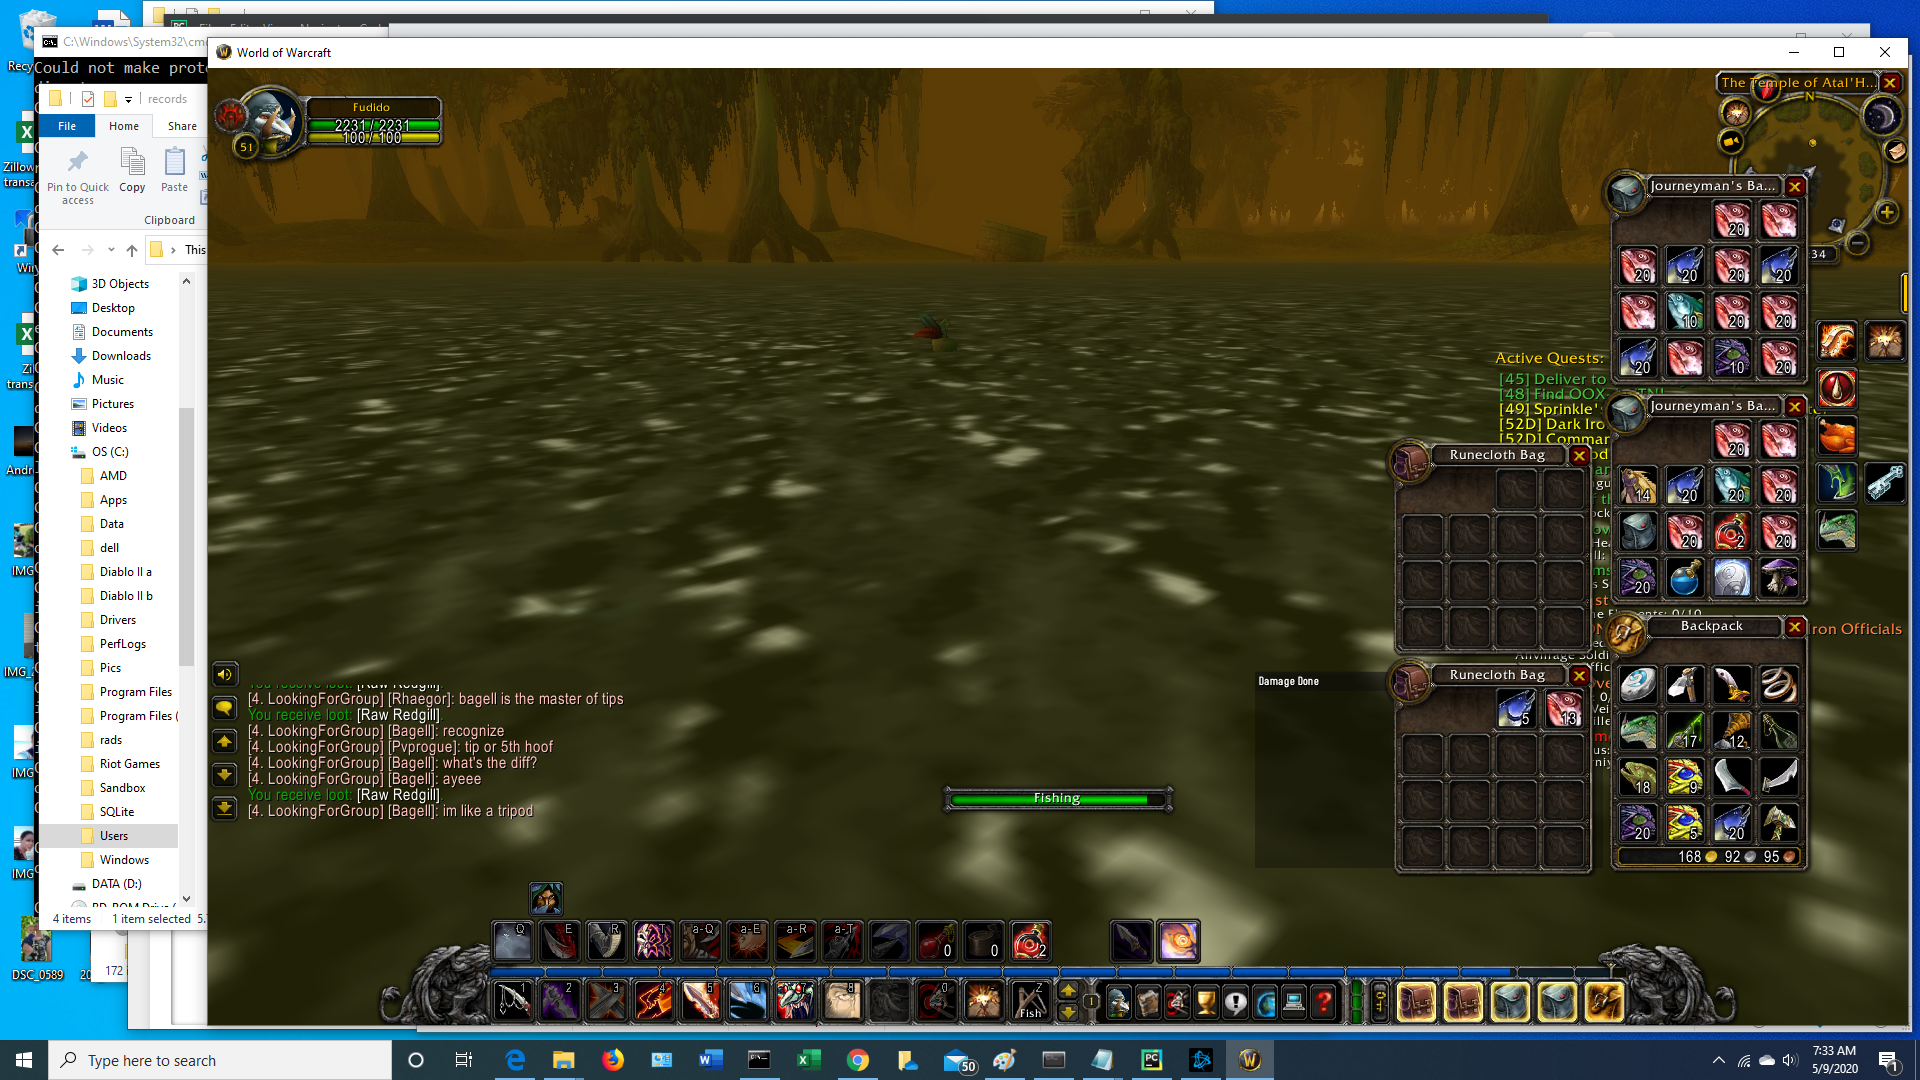bobber: (907, 309, 967, 361)
